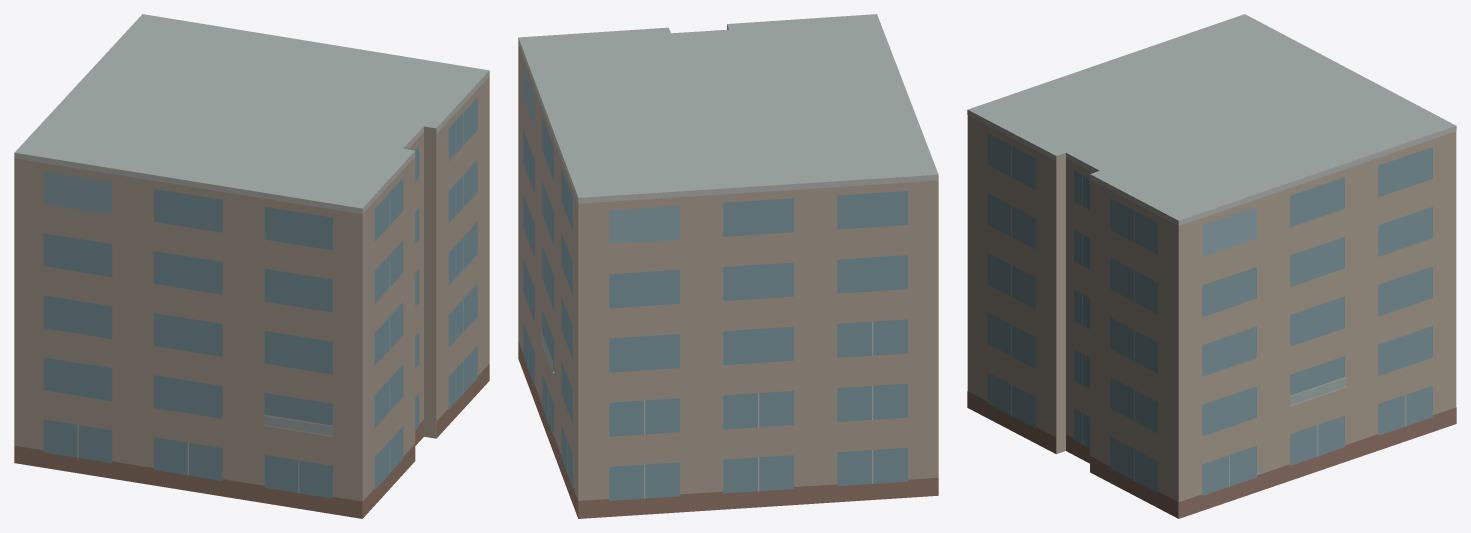
Rendered from survey-upis-32740786.glb.
3 views of the same model, side by side, from view 1: azimuth 30°, elevation 25°; view 2: azimuth 150°, elevation 25°; view 3: azimuth 270°, elevation 25° (orthographic). The views are drawn at different scales.
Parts seen in each view (by area): view 1: survey-upis-32740786.tmp; view 2: survey-upis-32740786.tmp; view 3: survey-upis-32740786.tmp.
Boxes of the visible parts, x1,y1,x2,y2 form: survey-upis-32740786.tmp: (14, 14, 489, 518); survey-upis-32740786.tmp: (518, 14, 938, 518); survey-upis-32740786.tmp: (967, 14, 1456, 518).
Bounding box in the file's own units: 19.78 × 13.3 × 19.77.
